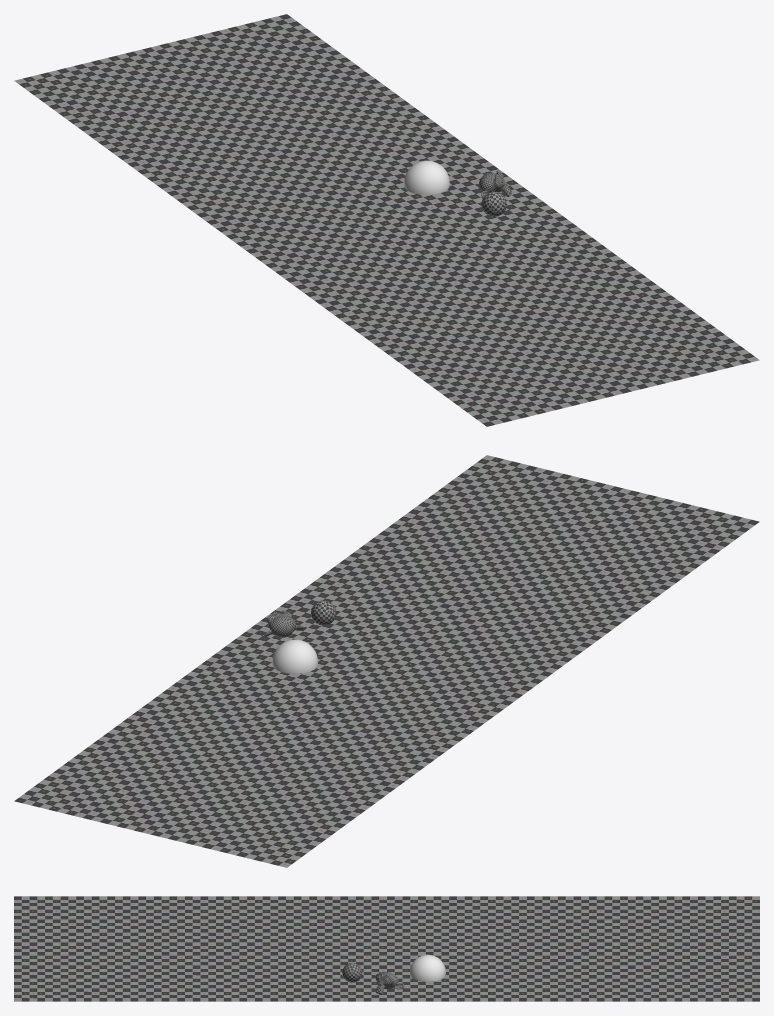
The model's file is texture.glb.
The picture shows the model from 3 angles, top to bottom: view 1: azimuth 30°, elevation 25°; view 2: azimuth 150°, elevation 25°; view 3: azimuth 270°, elevation 25°; orthographic projection. The views are drawn at different scales.
Visible parts, largest first — view 1: floor, sphere; view 2: floor, sphere, suzanne; view 3: floor, sphere, suzanne, sphere.001.
Boxes of the visible parts, left/top/right/bottom form: floor: left=14, top=14, right=759, bottom=426; sphere: left=404, top=160, right=449, bottom=194; floor: left=14, top=455, right=759, bottom=867; sphere: left=272, top=639, right=318, bottom=673; suzanne: left=264, top=610, right=304, bottom=637; floor: left=14, top=896, right=759, bottom=1001; sphere: left=409, top=954, right=445, bottom=981; suzanne: left=375, top=972, right=404, bottom=994; sphere.001: left=342, top=962, right=362, bottom=982.
Size of the model in its own units: 16 by 2.35 by 48.
4 materials, 3 textured.
